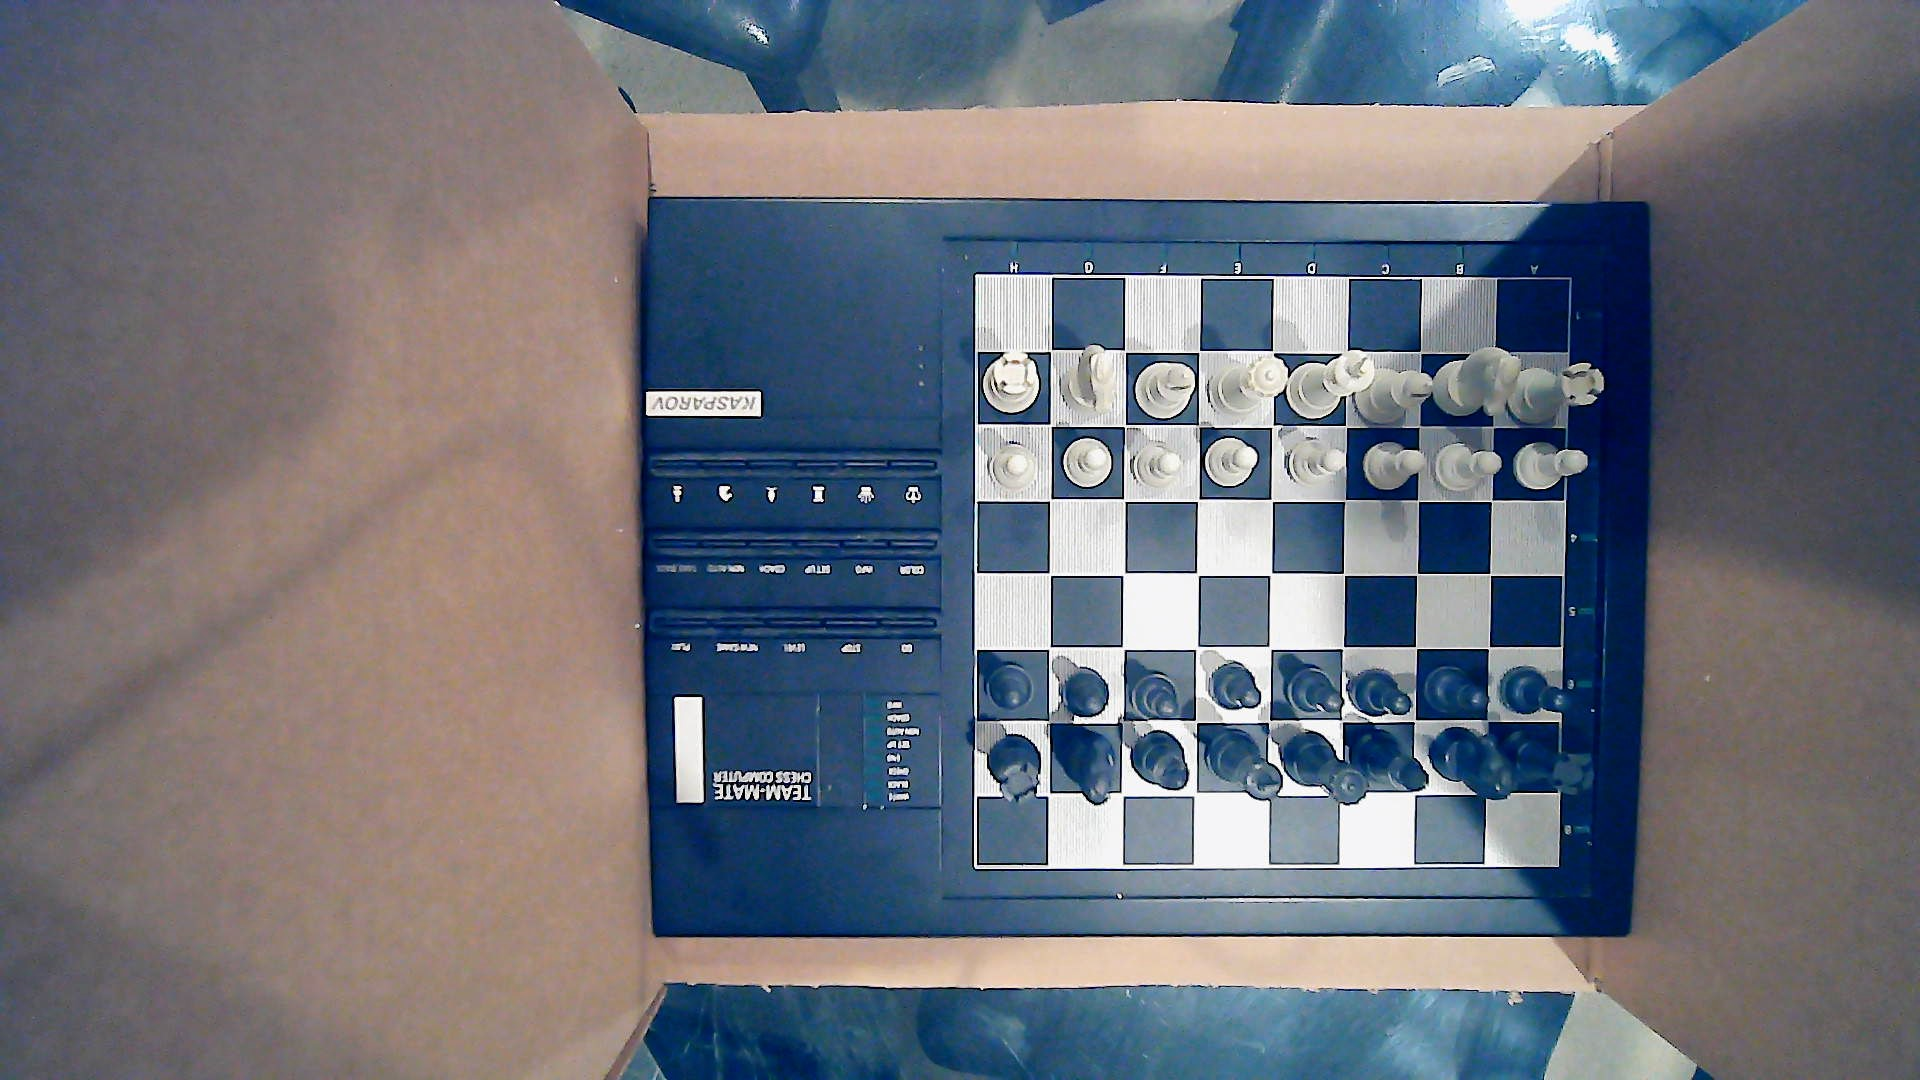bbishop: (1350, 729, 1429, 793), (1129, 731, 1189, 790)
bking: (1204, 729, 1283, 800)
bknight: (1429, 727, 1514, 800), (1062, 733, 1116, 807)
bpawn: (1501, 667, 1575, 716), (1423, 665, 1490, 715), (1346, 669, 1414, 717), (1284, 667, 1345, 715), (1208, 662, 1262, 711), (1129, 673, 1180, 721), (1060, 669, 1109, 717), (985, 665, 1035, 712)
bqueen: (1282, 733, 1367, 804)
brook: (1501, 729, 1596, 794), (986, 735, 1042, 804)
wbishop: (1356, 367, 1435, 425), (1133, 363, 1196, 419)
wking: (1287, 349, 1375, 419)
wknight: (1432, 348, 1522, 418), (1059, 344, 1118, 419)
wpawn: (1514, 440, 1588, 489), (1433, 442, 1502, 493), (1364, 440, 1427, 491), (1284, 438, 1346, 488), (1205, 436, 1259, 488), (1062, 438, 1113, 488), (1130, 443, 1183, 491), (988, 444, 1038, 493)
wqueen: (1207, 355, 1288, 421)
wrook: (1510, 360, 1604, 425), (982, 349, 1040, 414)
